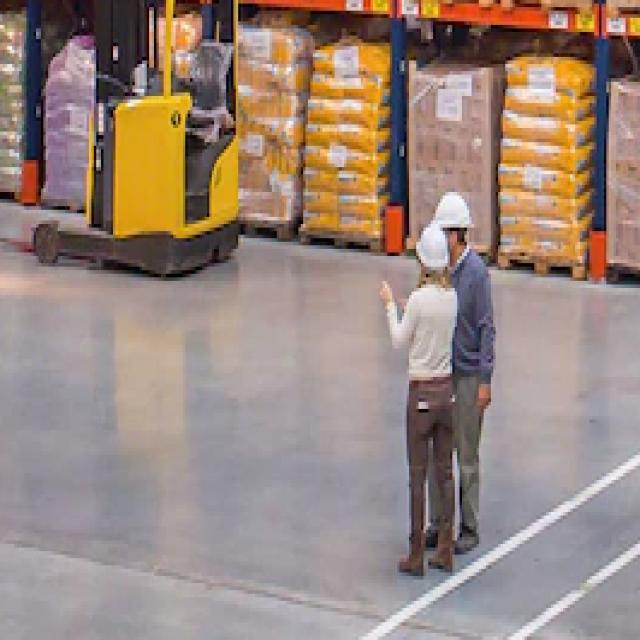boots: (405, 506, 483, 558), (394, 539, 458, 579)
helmet: (428, 183, 474, 252), (413, 219, 454, 286)
